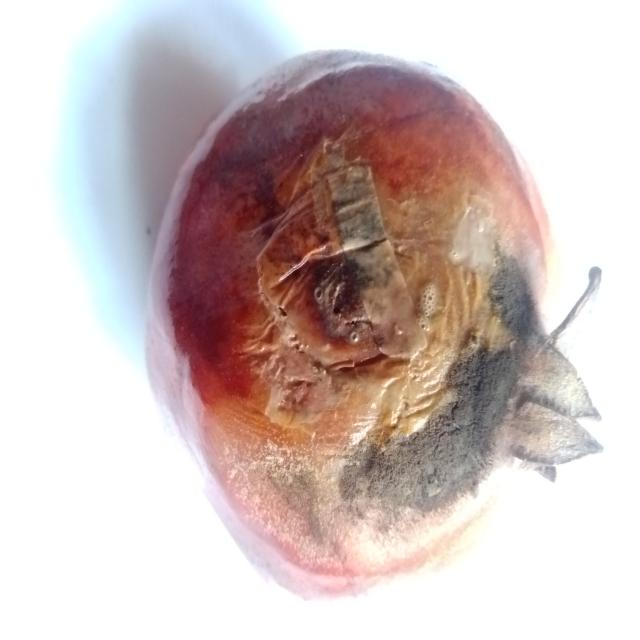Rotten: (138, 43, 610, 595)
